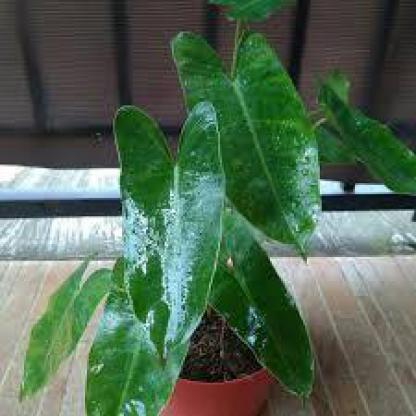Melati: (220, 215, 375, 383)
